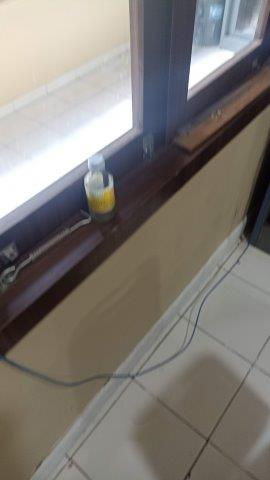botolkaca: (83, 156, 120, 229)
